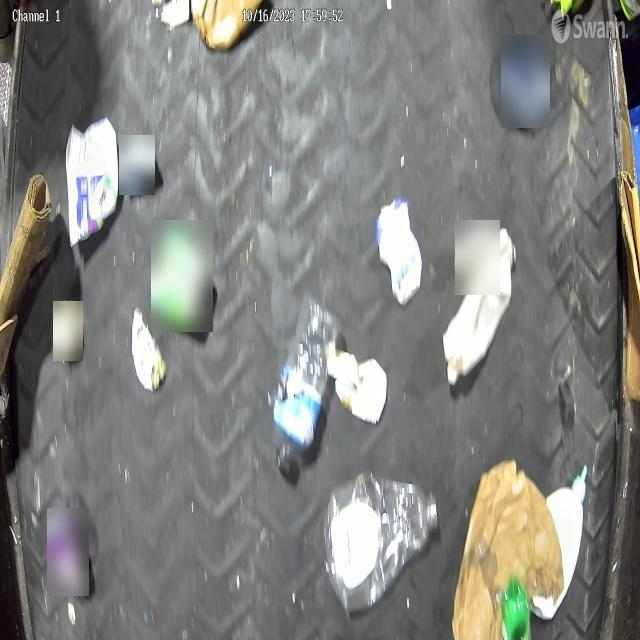milk_jug: (442, 227, 518, 387)
plastic_bottle: (324, 472, 438, 614), (272, 293, 342, 482)
